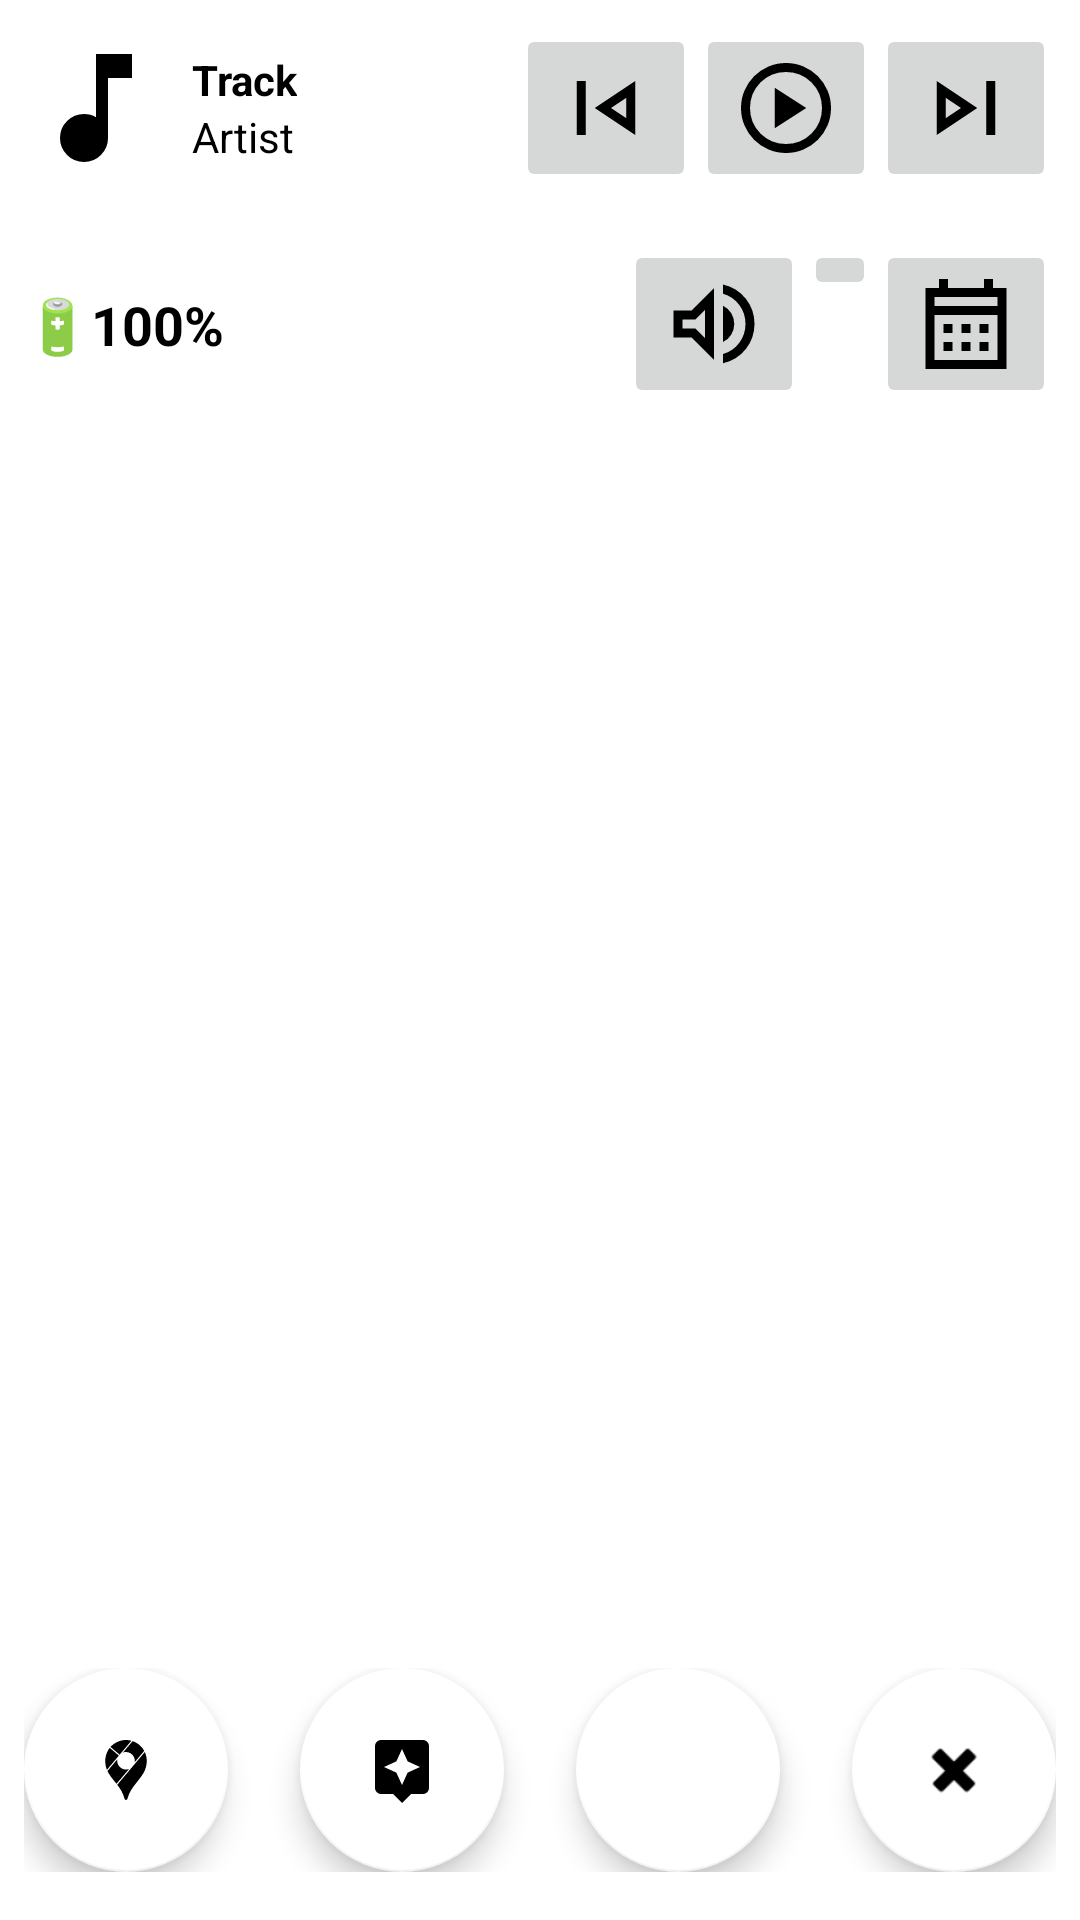

Point at icon controls on the screen. Image size 1080×1920, points as point (x, y).
Fetch Calendar Events: point (966, 324)
music note: point (96, 108)
Mute/Unmute: point (714, 324)
Next: point (966, 108)
Play/Pause: point (786, 108)
Previous: point (606, 108)
